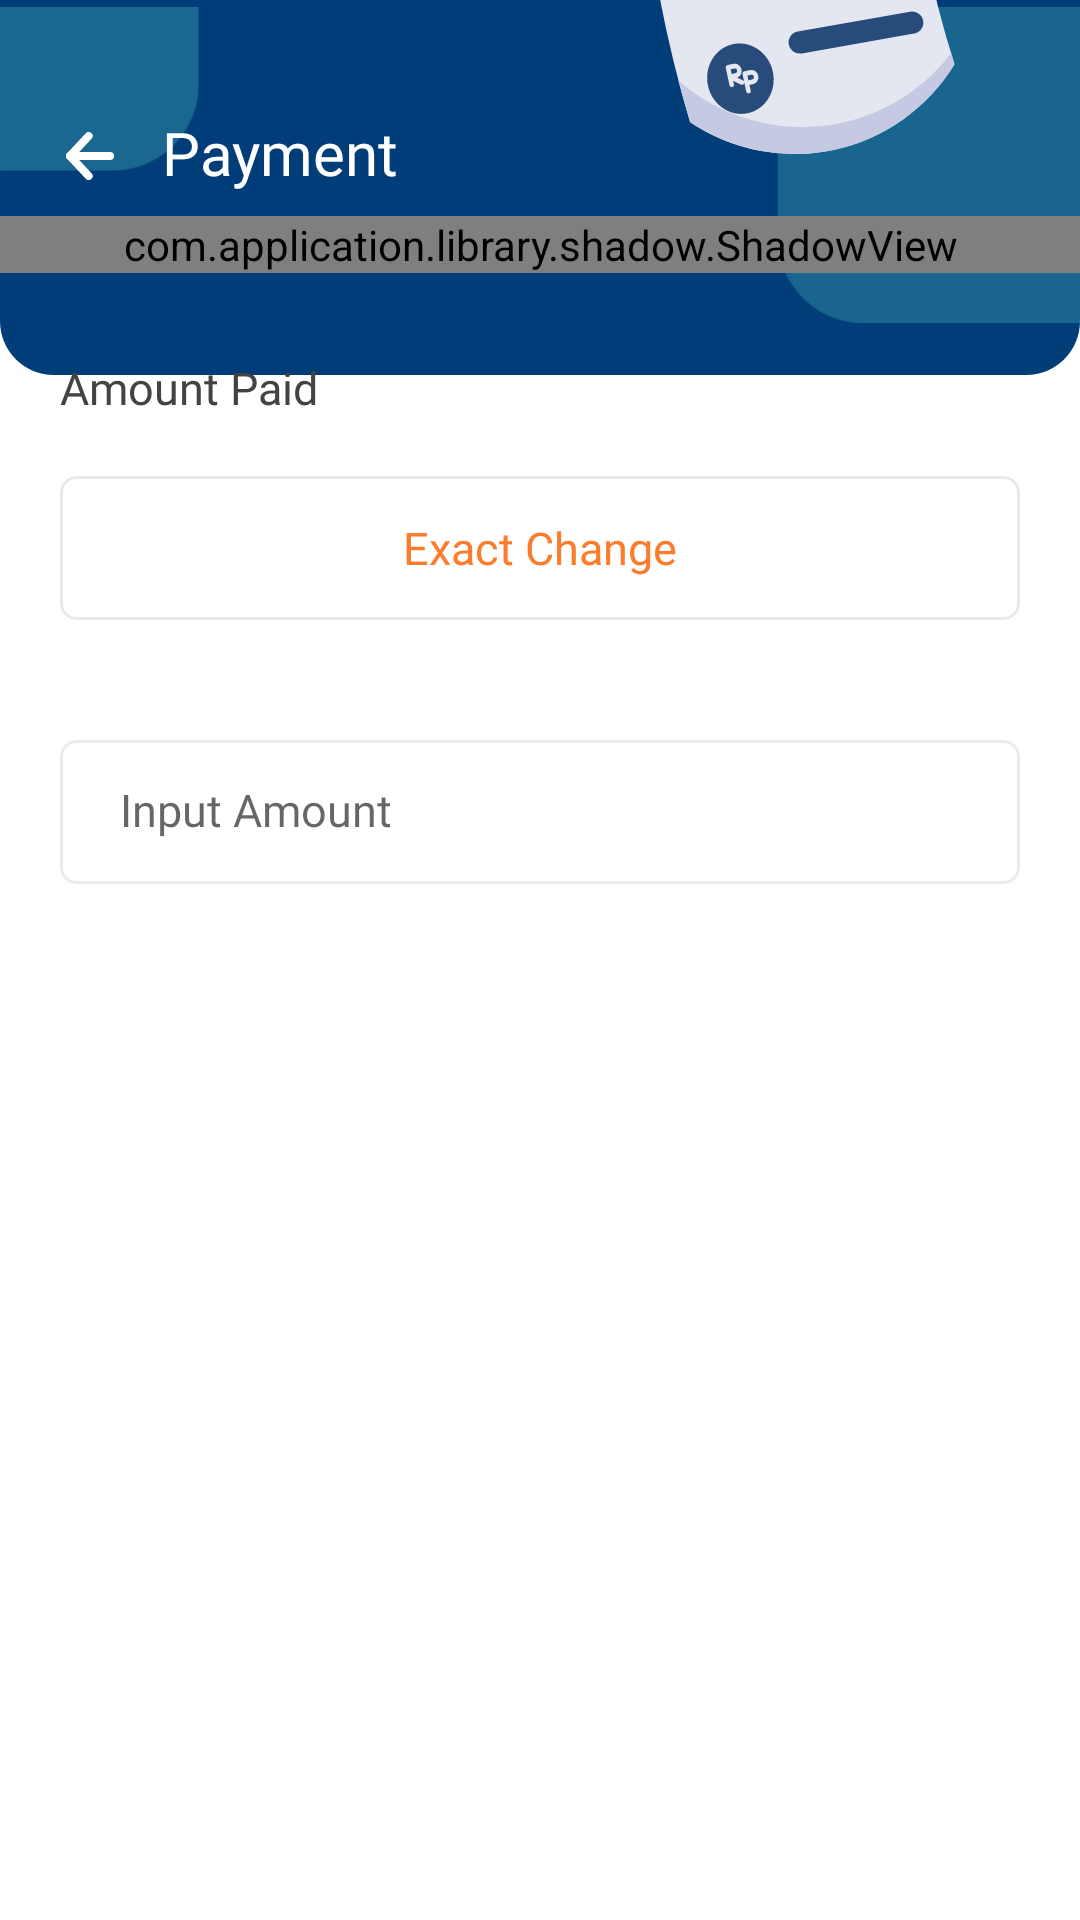

Where to tap for icons on this 1080×1920 app screen, as [x,y]:
arrow left: [90,156]
